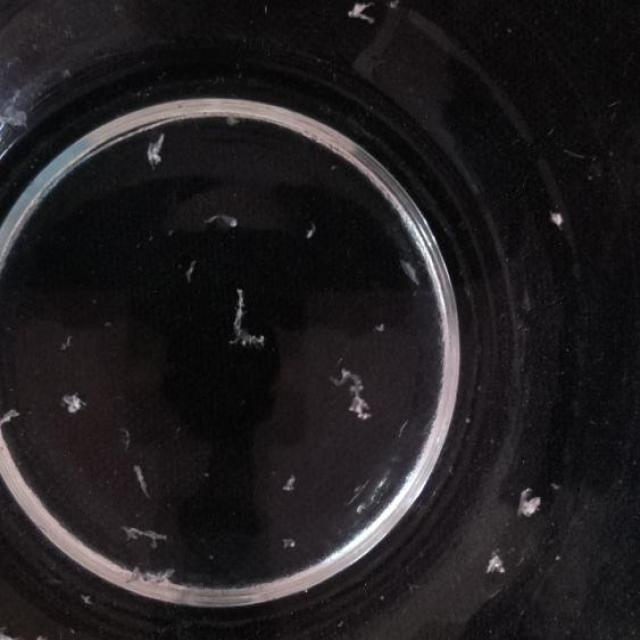fiber: (330, 360, 374, 426), (231, 280, 264, 350), (121, 520, 173, 554), (125, 563, 181, 592), (401, 253, 428, 293), (517, 484, 543, 523), (132, 462, 156, 501), (144, 134, 170, 169), (208, 207, 240, 235), (61, 388, 89, 417), (349, 3, 385, 25), (547, 204, 569, 234), (486, 544, 506, 575), (182, 254, 199, 289), (118, 425, 136, 454), (300, 222, 324, 241), (283, 473, 299, 501), (2, 409, 20, 433), (281, 534, 301, 553), (60, 332, 77, 354), (373, 320, 393, 338), (224, 112, 242, 126)
